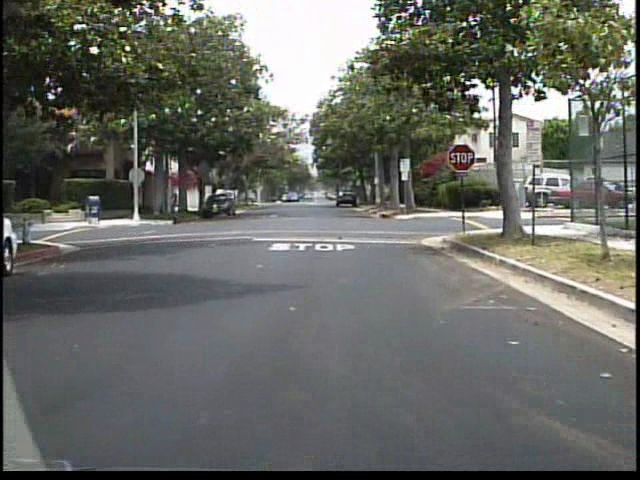person: (163, 179, 186, 228)
